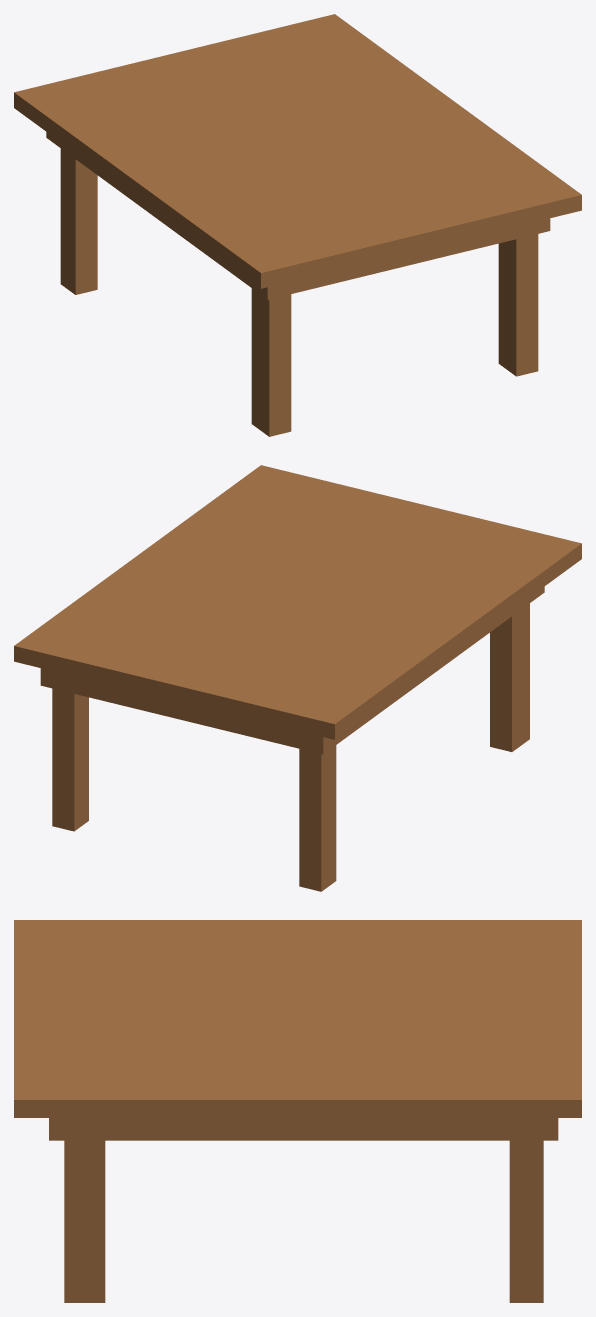
File: TableMini.fbx
3 renders of one model, top to bottom at view 1: azimuth 30°, elevation 25°; view 2: azimuth 150°, elevation 25°; view 3: azimuth 270°, elevation 25°, orthographic. The views are drawn at different scales.
Parts seen in each view (by area): view 1: pCube1; view 2: pCube1; view 3: pCube1.
Boxes of the visible parts, left/top/right/bottom form: pCube1: left=14, top=14, right=581, bottom=436; pCube1: left=14, top=465, right=581, bottom=891; pCube1: left=14, top=920, right=581, bottom=1302.
Size of the model in its own units: 150 by 83.59 by 200.
